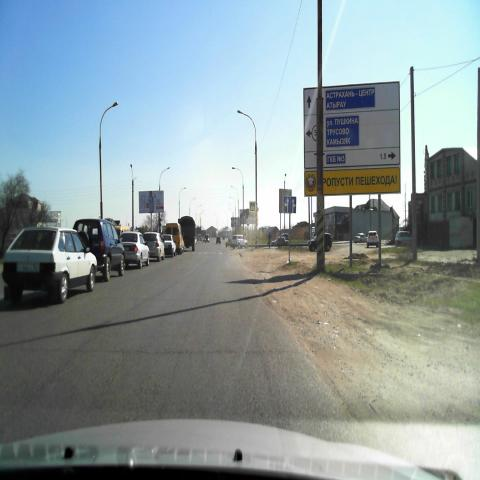5_15_2_2: (280, 196, 296, 214)
5_19_1: (248, 202, 256, 214)
